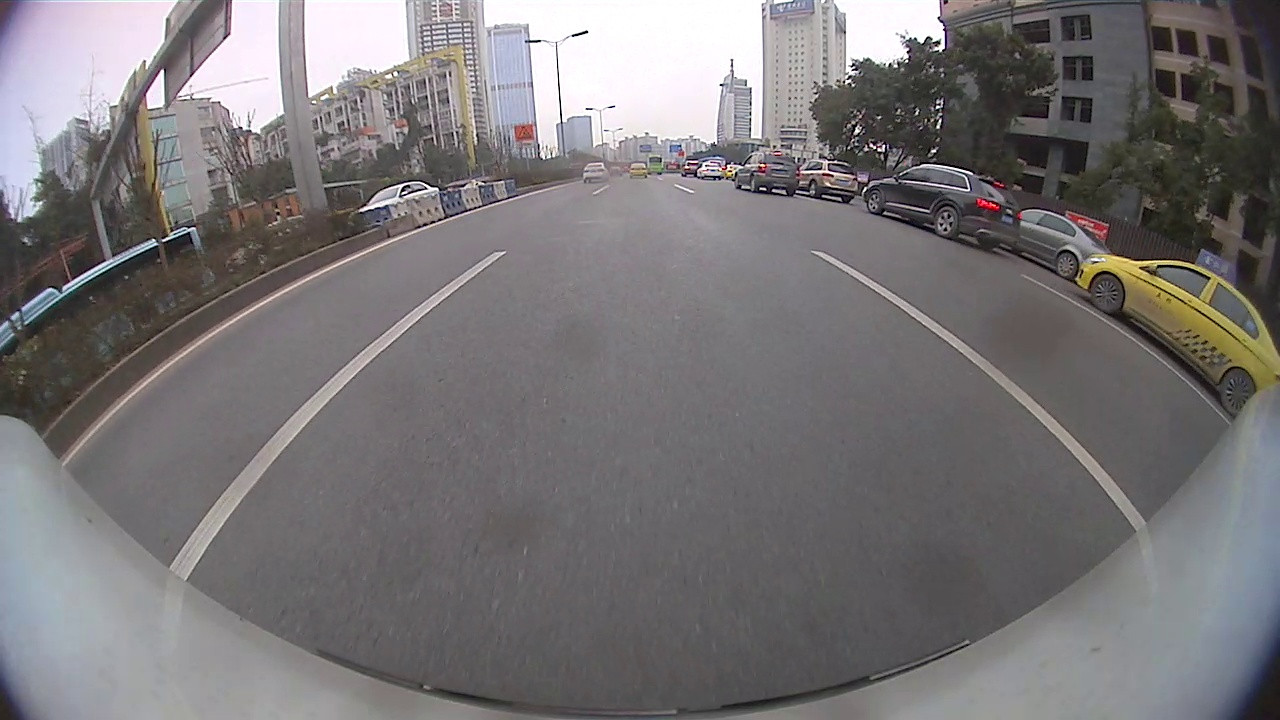bus: (1, 226, 205, 351)
car: (1076, 250, 1278, 412), (864, 161, 1022, 252), (1016, 209, 1110, 276), (356, 180, 440, 215), (795, 158, 860, 203), (734, 152, 799, 196), (583, 162, 610, 186), (696, 161, 723, 180), (629, 163, 648, 179)
front: (1088, 270, 1127, 317), (863, 189, 886, 216)
rear: (1217, 369, 1255, 417), (934, 204, 962, 240), (1056, 251, 1082, 282), (807, 178, 820, 201)
